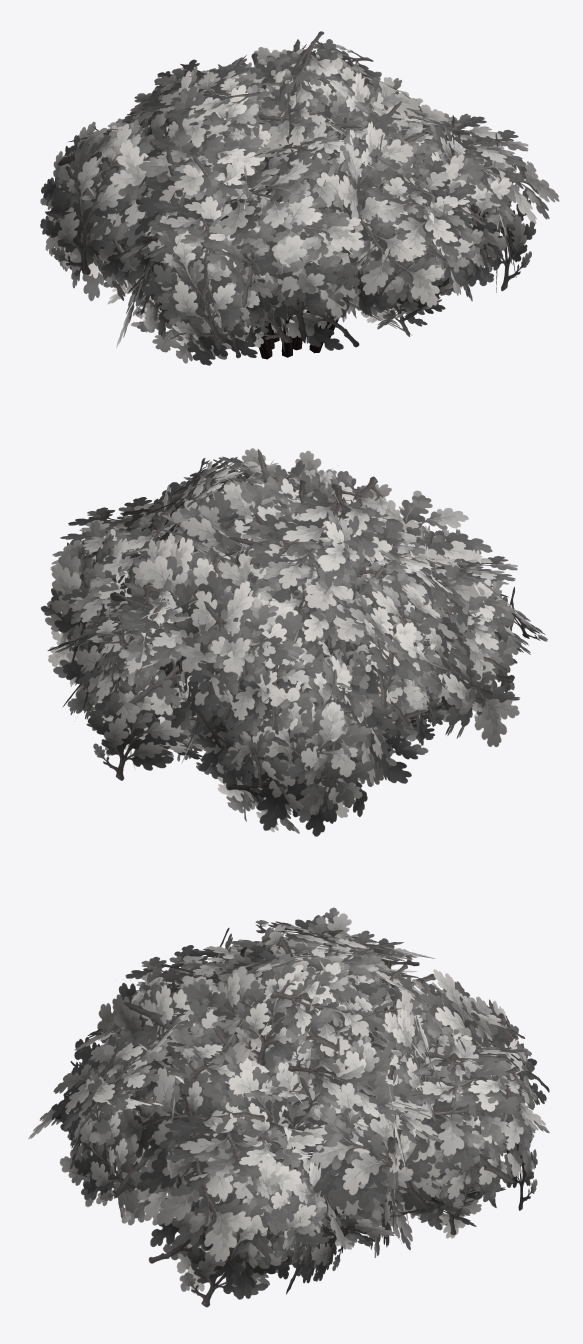
Rendered from shrub_shadow.glb.
3 renders of one model, top to bottom at view 1: azimuth 30°, elevation 25°; view 2: azimuth 150°, elevation 25°; view 3: azimuth 270°, elevation 25°, orthographic. The views are drawn at different scales.
Visible parts, largest first — view 1: shrub_shadow; view 2: shrub_shadow; view 3: shrub_shadow.
Part boxes in pixels (box(x1,y1,x2,y2)): shrub_shadow: box(40, 31, 559, 365); shrub_shadow: box(41, 448, 547, 836); shrub_shadow: box(28, 907, 549, 1307).
Bounding box in the file's own units: 1.35 × 0.8677 × 1.22.
Materials: 2 (2 with a texture image).
